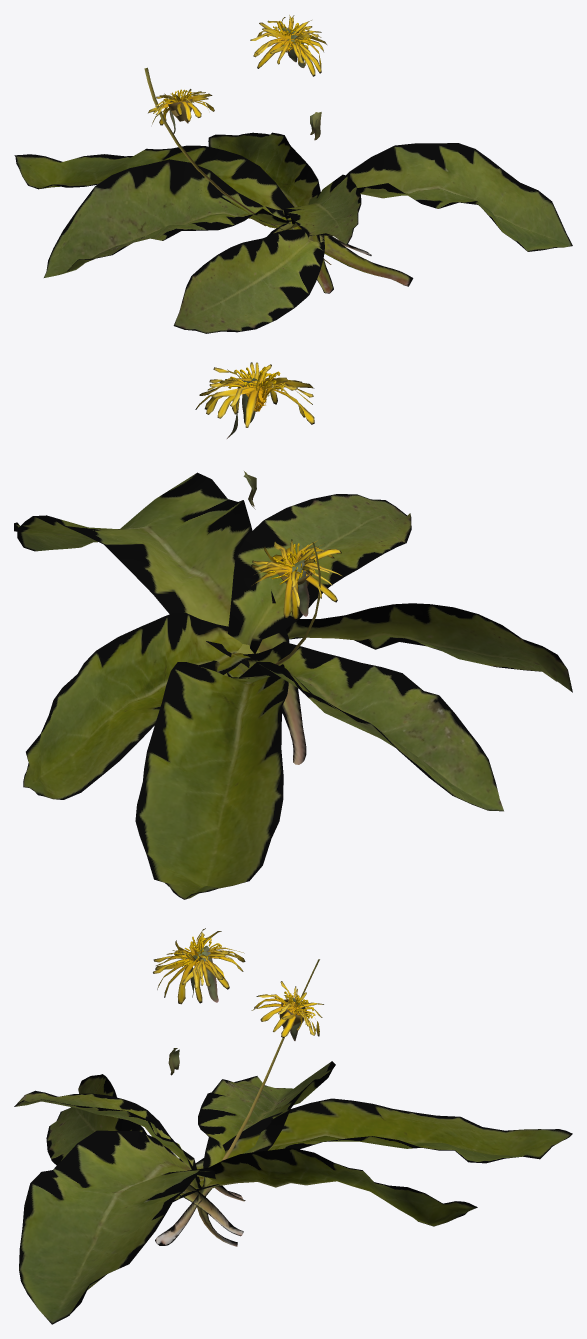
The picture shows the model from 3 angles, top to bottom: view 1: azimuth 30°, elevation 25°; view 2: azimuth 150°, elevation 25°; view 3: azimuth 270°, elevation 25°; orthographic projection. The views are drawn at different scales.
Parts seen in each view (by area): view 1: dandelion_01_a_LOD0; view 2: dandelion_01_a_LOD0; view 3: dandelion_01_a_LOD0.
Part boxes in pixels (x1,y1,x2,y2): dandelion_01_a_LOD0: [14, 15, 572, 333]; dandelion_01_a_LOD0: [14, 362, 572, 899]; dandelion_01_a_LOD0: [14, 928, 572, 1324].
Bounding box in the file's own units: 0.3318 × 0.1903 × 0.3274.
1 material, 1 textured.
